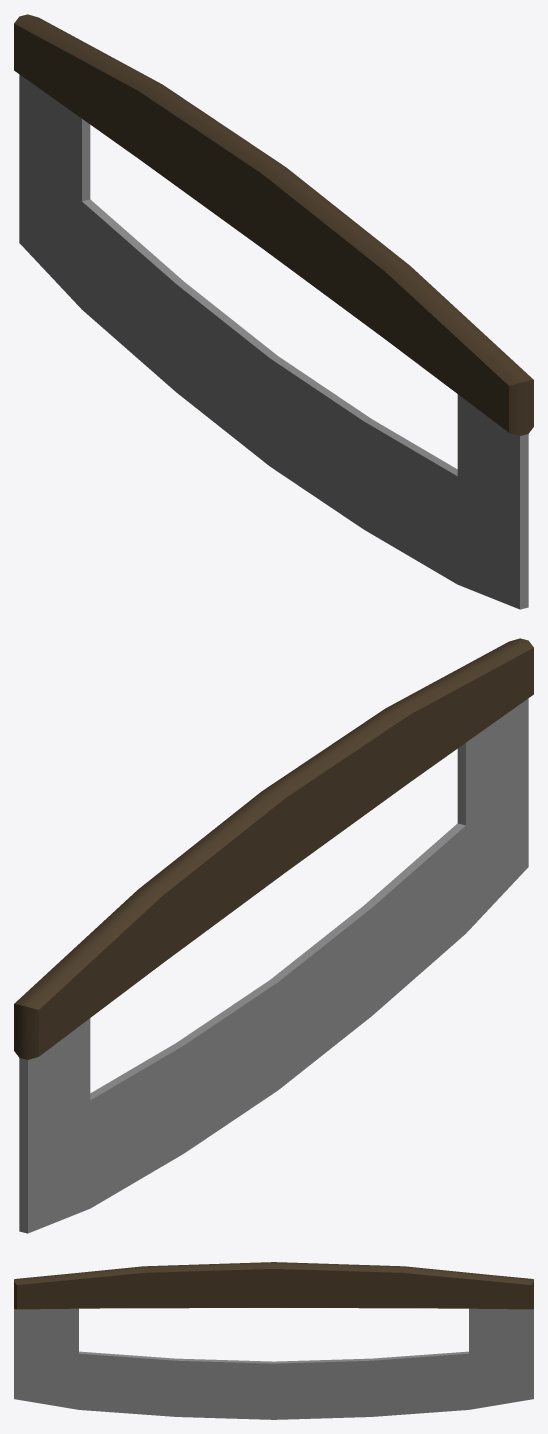
Rendered from PS_PizzaShaker.fbx.
The picture shows the model from 3 angles, top to bottom: view 1: azimuth 30°, elevation 25°; view 2: azimuth 150°, elevation 25°; view 3: azimuth 270°, elevation 25°; orthographic projection. The views are drawn at different scales.
Parts seen in each view (by area): view 1: PS_PizzaShaker; view 2: PS_PizzaShaker; view 3: PS_PizzaShaker.
Boxes of the visible parts, <box> form: PS_PizzaShaker: <box>14,14,533,609</box>; PS_PizzaShaker: <box>14,638,533,1233</box>; PS_PizzaShaker: <box>14,1262,533,1419</box>.
Bounding box in the file's own units: 0.0222 × 0.2562 × 0.7753.
